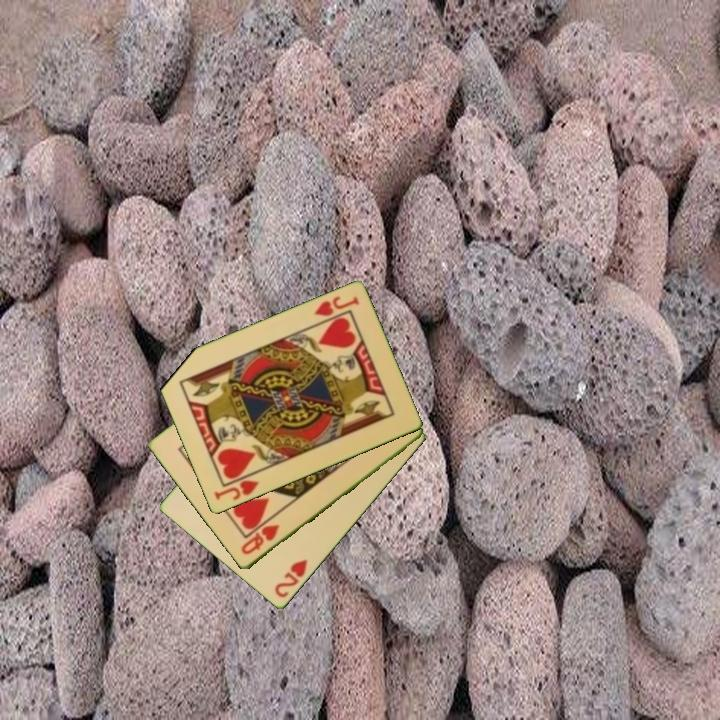2h: (271, 556, 310, 601)
Jh: (210, 468, 262, 504), (310, 293, 362, 320)
Qh: (237, 521, 283, 558)
